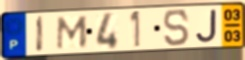1: (128, 9, 142, 50)
4: (95, 11, 121, 51)
I: (35, 15, 45, 54)
J: (195, 8, 219, 44)
M: (55, 15, 90, 51)
S: (162, 8, 191, 48)
